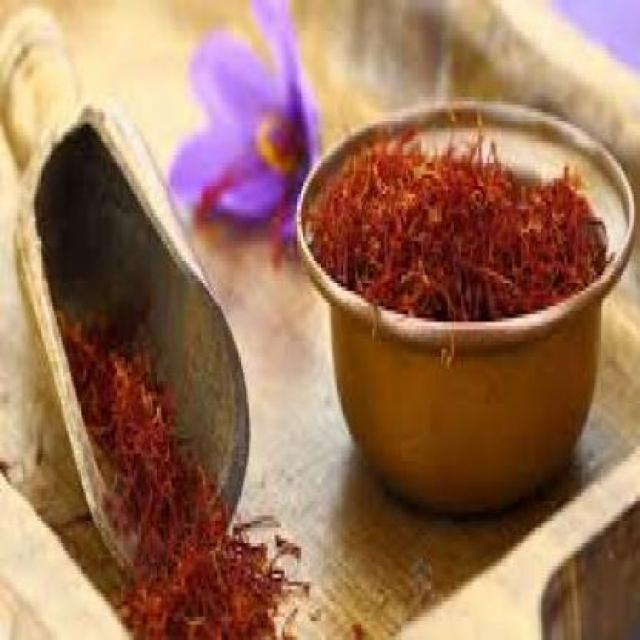saffron open: (172, 1, 319, 256)
